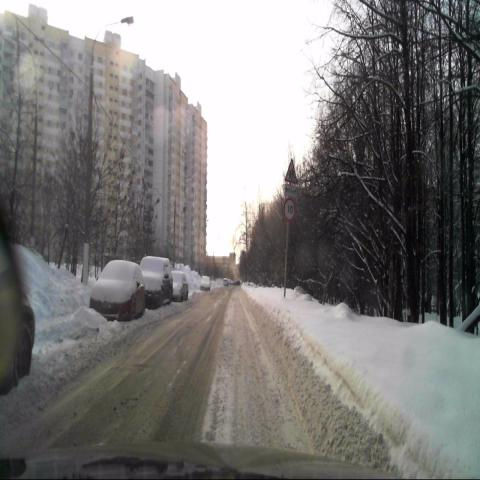1_23: (284, 158, 298, 183)
3_24: (284, 198, 295, 222)
8_2_1: (284, 184, 297, 197)
